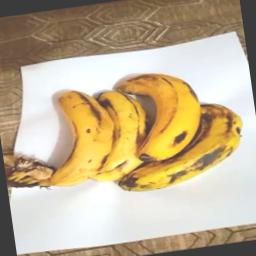Banana Unripe: (0, 75, 116, 197), (119, 65, 208, 163), (90, 77, 156, 190), (110, 141, 238, 191)
